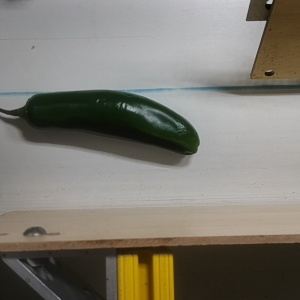Cut Point: (12, 93, 43, 131)
